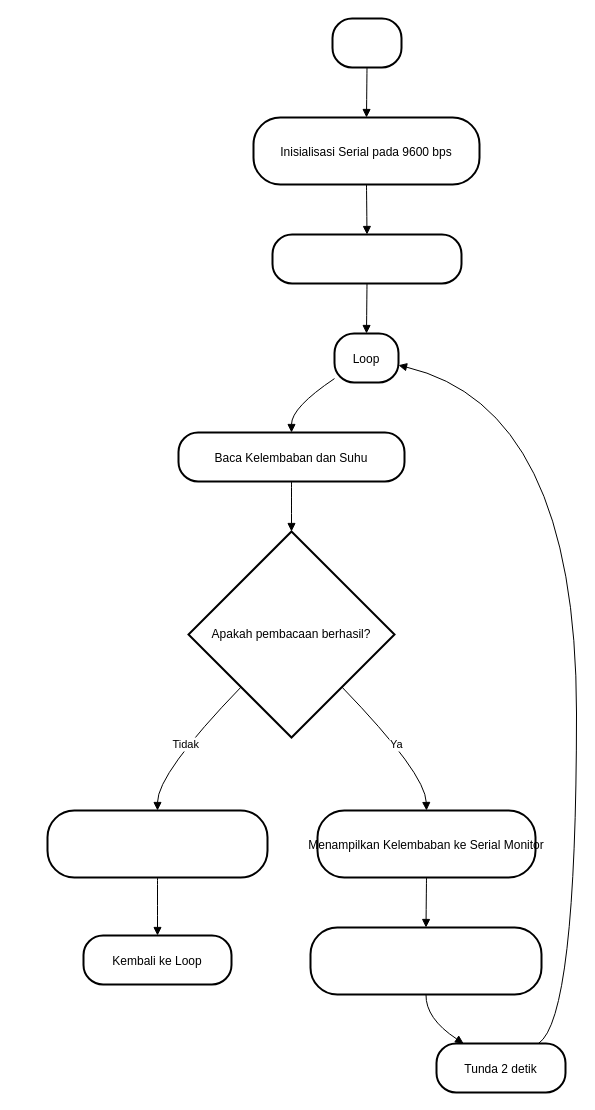
The diagram is 595 pixels wide and 1110 high, and some of its shapes have lost their labels. The shapes that lost their labels are listed below. From the top down, each one's centre as x and y in pixels, then its label:
At (x=366, y=42): "Mulai".
At (x=366, y=258): "Inisialisasi Sensor DHT".
At (x=157, y=843): "Menampilkan pesan Failed to read from DHT sensor!".
At (x=425, y=960): "Menampilkan Suhu ke Serial Monitor".
